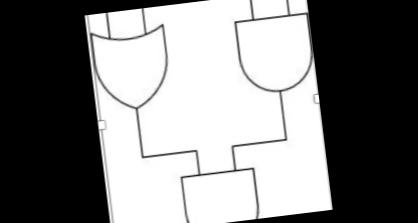and: (232, 6, 319, 99), (176, 162, 263, 223)
or: (89, 18, 176, 115)
